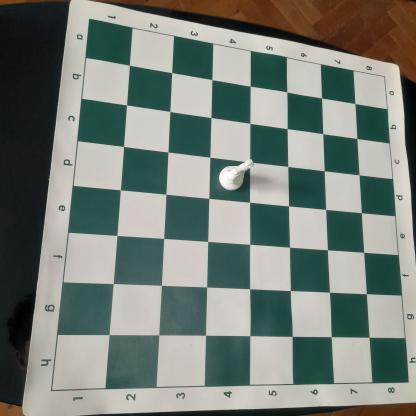white-knight: (218, 158, 256, 192)
